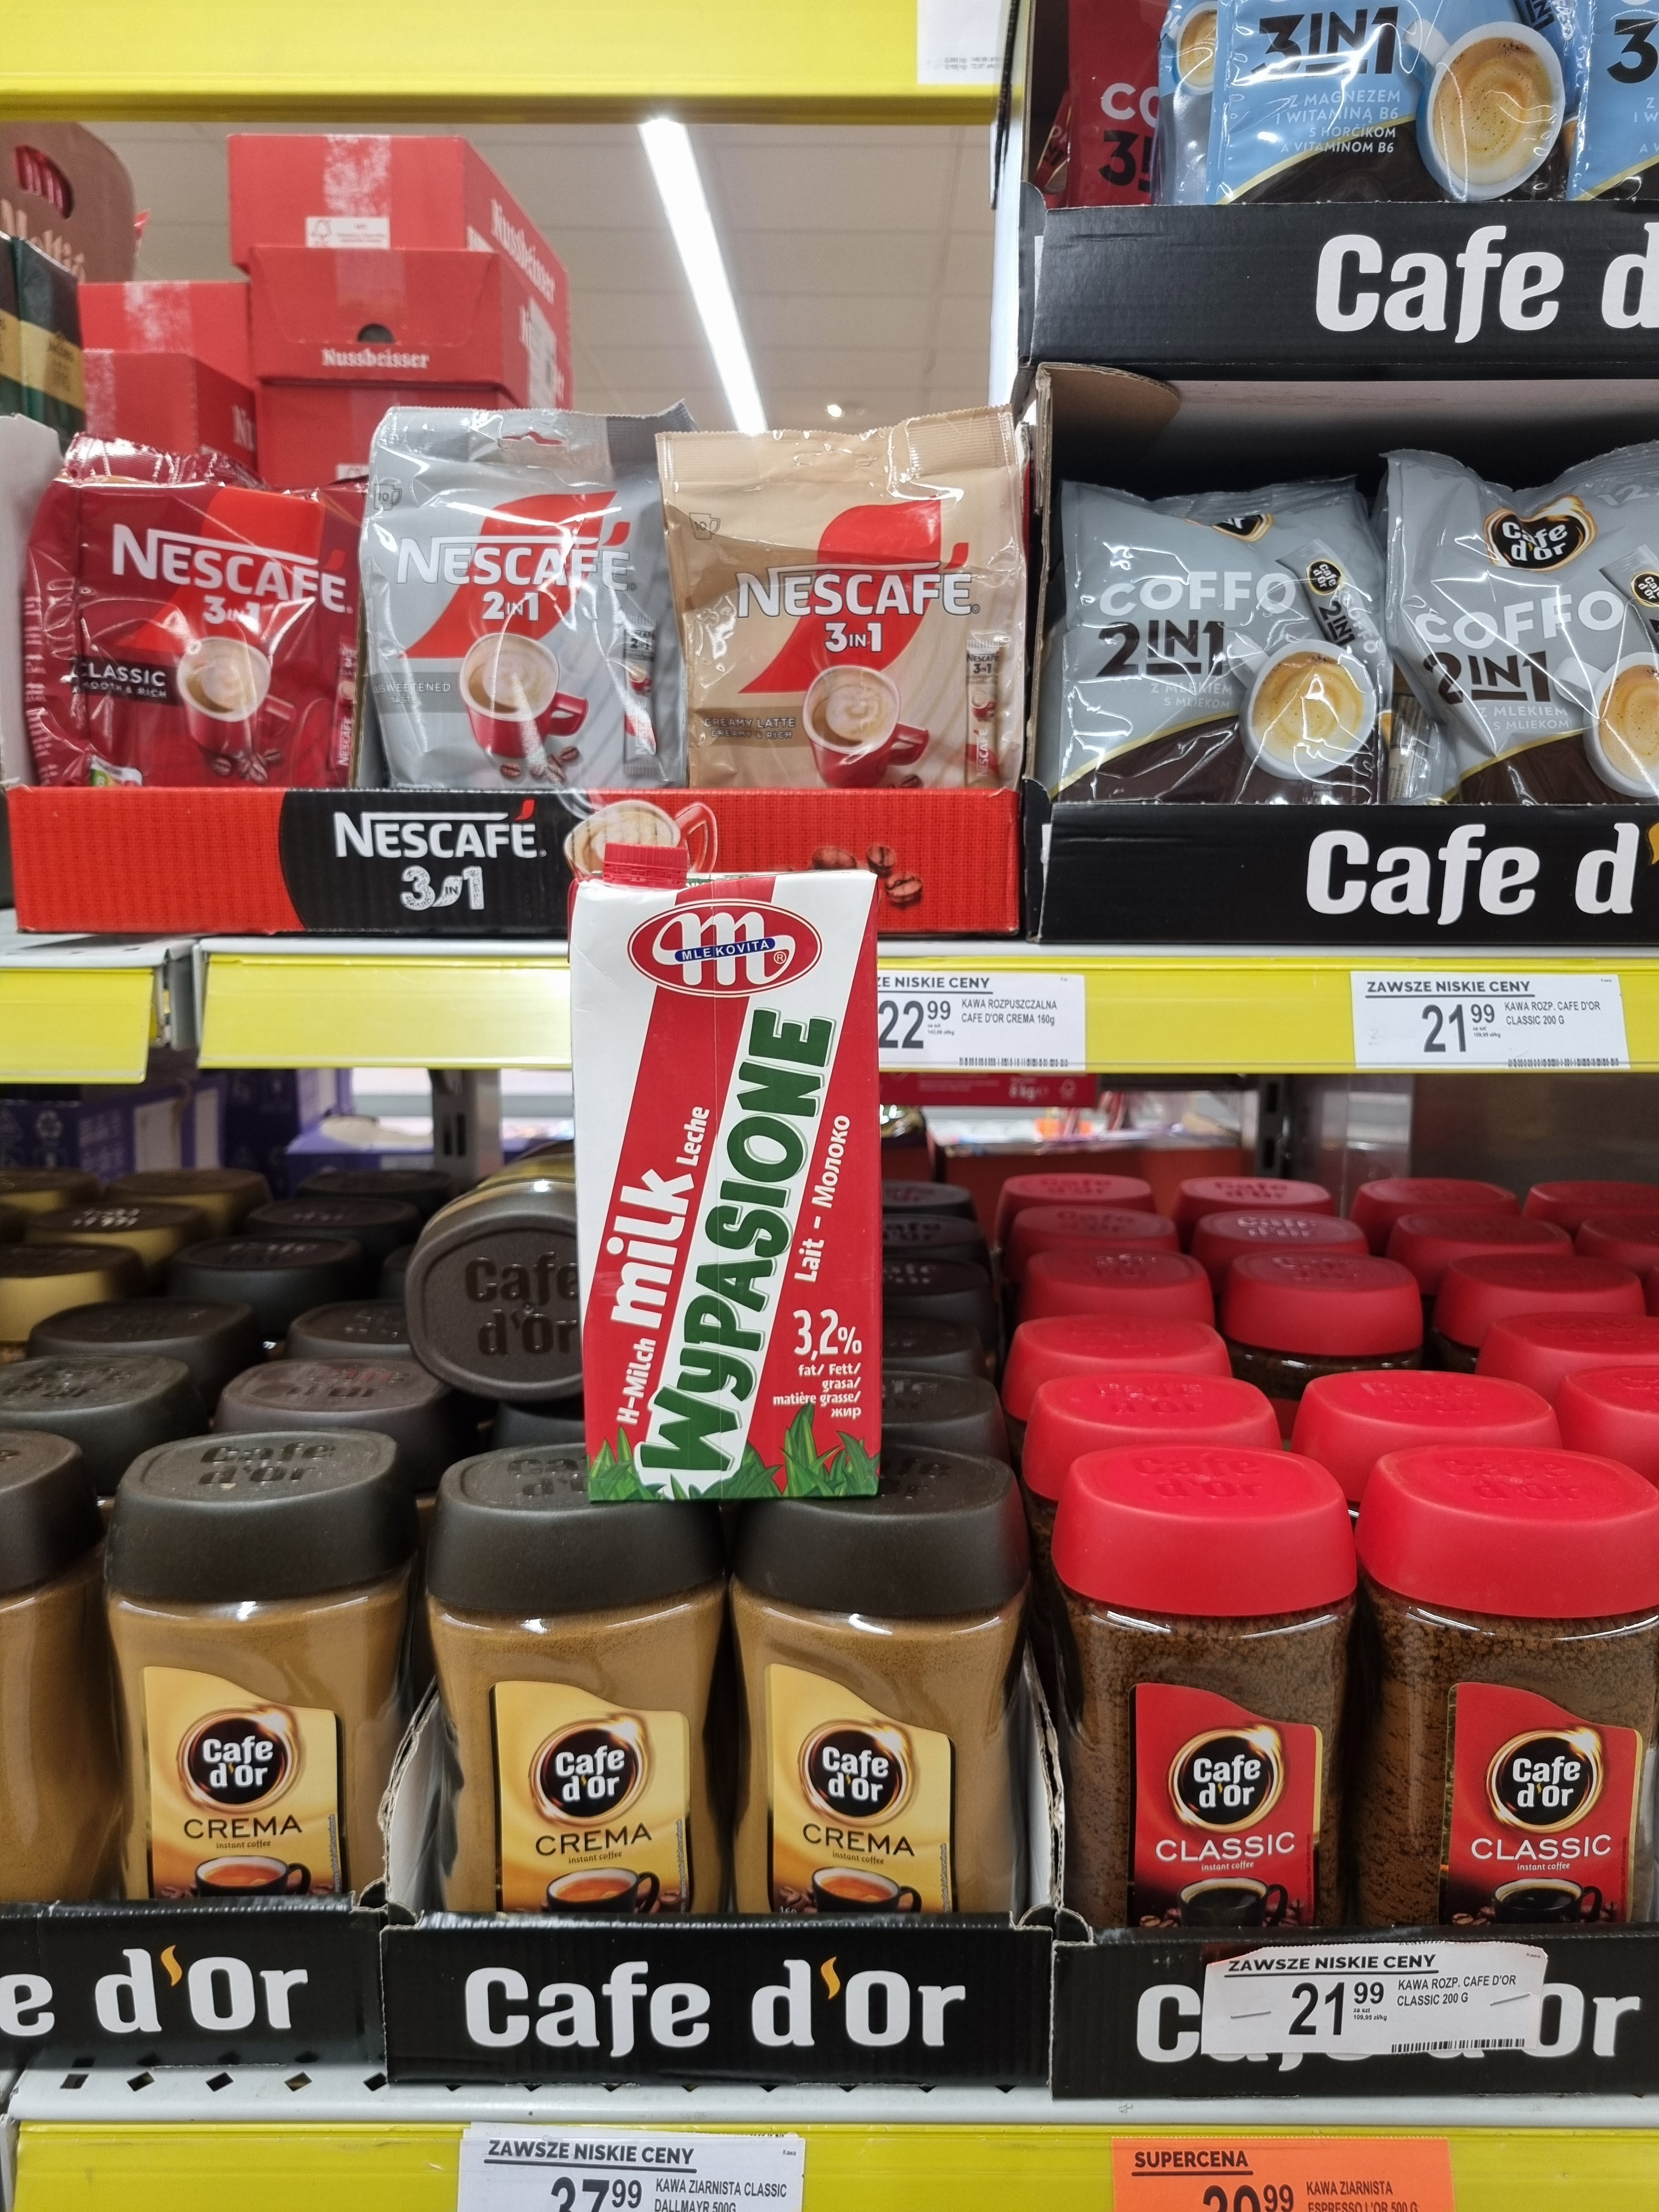Milk: (556, 862, 899, 1498)
